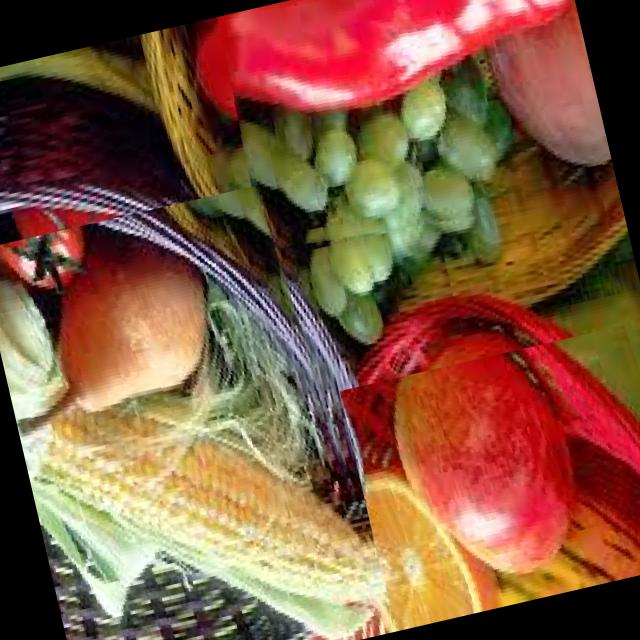Organic: (0, 175, 392, 640), (209, 0, 615, 272), (338, 318, 640, 631)
